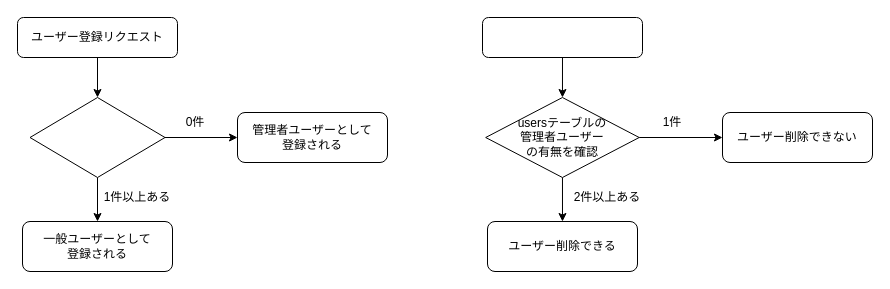
The diagram is 890 pixels wide and 289 high, and some of its shapes have lost their labels. The centre of each missing label's shape, as x and y in pixels:
usersテーブルの レコード数を確認: point 97,137
ユーザー削除リクエスト: point 562,37
